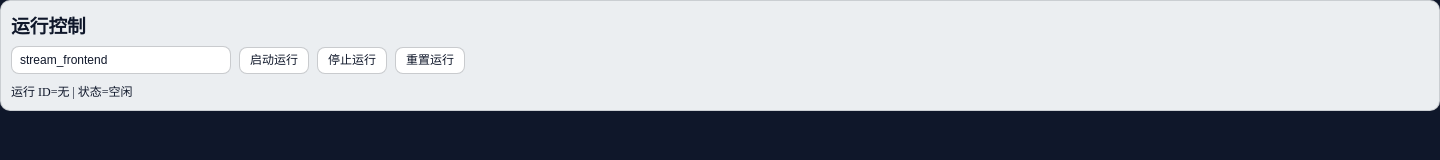
Test: RunControlPanel › starts run successfully and stores run id/status
Step 1. Click the button "启动运行" → (274, 61), box left=239, top=47, right=309, bottom=74
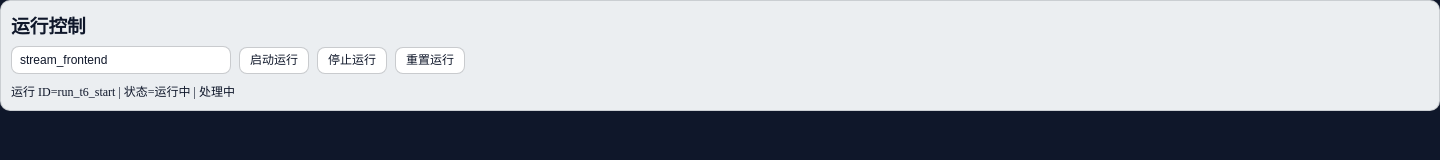
Result: the text with test id "run-control-summary" shows "run_t6_start" at left=11, top=85, right=235, bottom=99
Result: the text with test id "run-control-summary" shows "状态=运行中" at left=11, top=85, right=235, bottom=99
